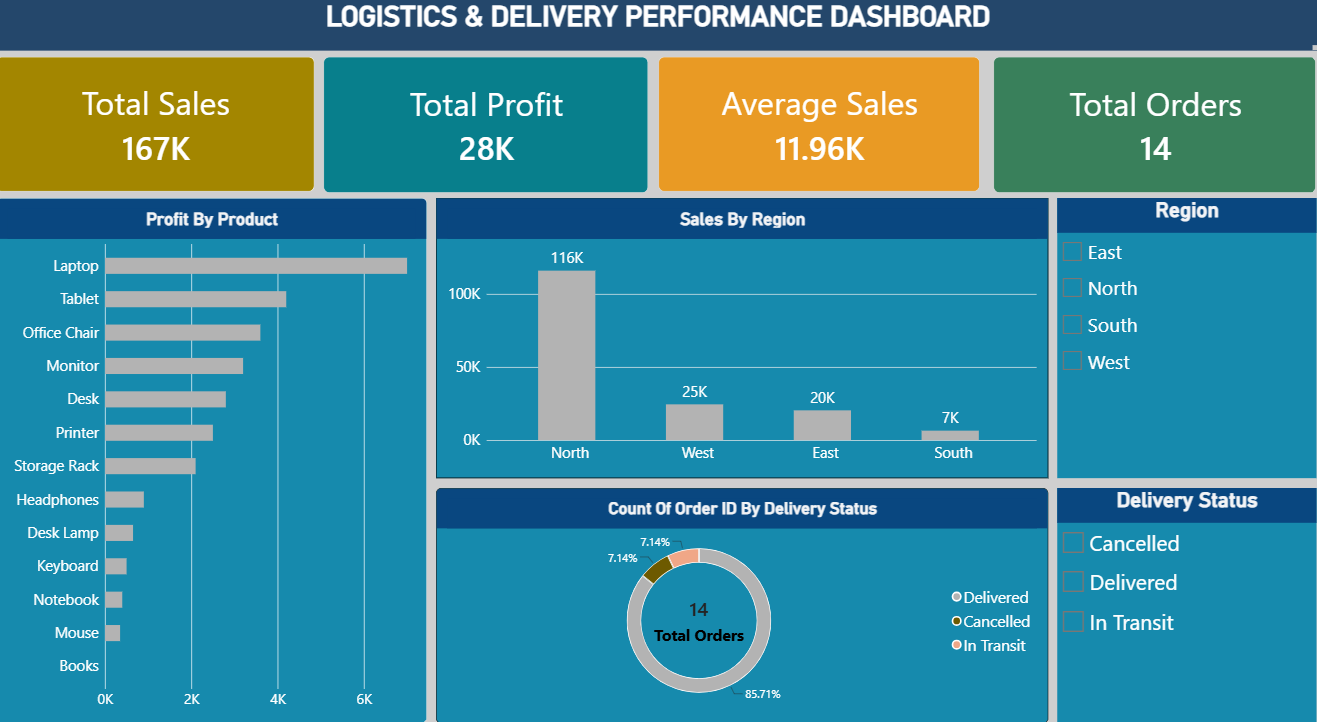

What the dashboard file says about the page in this screenshot:
{"tool":"powerbi","page":{"name":"Dashboard","canvas":[1920,1080],"ordinal":0},"visuals":[{"type":"cardVisual","fields":{"Data":["DimCustomer.Total Sales"]},"box":[0,114,461.5,195.4],"z":0},{"type":"cardVisual","fields":{"Data":["DimCustomer.Total Profit"]},"box":[474.1,114,470.5,197.3],"z":1},{"type":"cardVisual","fields":{"Data":["DimCustomer.Average Sales"]},"box":[959.1,114,465.1,195.4],"z":2},{"type":"cardVisual","fields":{"Data":["DimCustomer.Total Orders"]},"box":[1444.1,114,468.7,197.3],"z":3},{"type":"clusteredBarChart","title":" Profit By Product","fields":{"Category":["Logistics_Data.Product"],"Y":["Sum(Logistics_Data.Profit)"]},"box":[0,318.5,624.3,761.9],"z":5},{"type":"donutChart","title":"Count Of Order ID By Delivery Status","fields":{"Category":["Logistics_Data.Delivery Status"],"Y":["CountNonNull(Logistics_Data.Order ID)"]},"box":[637,738.3,886.7,342],"z":6},{"type":"slicer","title":"Region","fields":{"Values":["Logistics_Data.Region"]},"box":[1536.4,318.5,376.4,405.4],"z":7},{"type":"slicer","title":"Delivery Status","fields":{"Values":["Logistics_Data.Delivery Status"]},"box":[1536.4,738.3,376.4,342],"z":8},{"type":"textbox","title":"LOGISTICS & DELIVERY PERFORMANCE DASHBOARD","box":[4,30,1910,74],"z":9},{"type":"clusteredColumnChart","title":"Sales By Region","fields":{"Category":["Logistics_Data.Region"],"Y":["Sum(Logistics_Data.Sales)"]},"box":[637,318.5,886.7,405.4],"z":10}]}

Visuals, with their boxes in screenshot pixels (x1, y1, x2, y2), scaled from the page's 1920x1080 canvas onto the 1317x722 screenshot:
cardVisual - DimCustomer.Total Sales: x1=0 y1=76 x2=317 y2=207
cardVisual - DimCustomer.Total Profit: x1=325 y1=76 x2=648 y2=208
cardVisual - DimCustomer.Average Sales: x1=658 y1=76 x2=977 y2=207
cardVisual - DimCustomer.Total Orders: x1=991 y1=76 x2=1312 y2=208
" Profit By Product" clusteredBarChart: x1=0 y1=213 x2=428 y2=721
"Count Of Order ID By Delivery Status" donutChart: x1=437 y1=494 x2=1045 y2=721
"Region" slicer: x1=1054 y1=213 x2=1312 y2=484
"Delivery Status" slicer: x1=1054 y1=494 x2=1312 y2=721
"LOGISTICS & DELIVERY PERFORMANCE DASHBOARD" textbox: x1=3 y1=20 x2=1313 y2=70
"Sales By Region" clusteredColumnChart: x1=437 y1=213 x2=1045 y2=484
